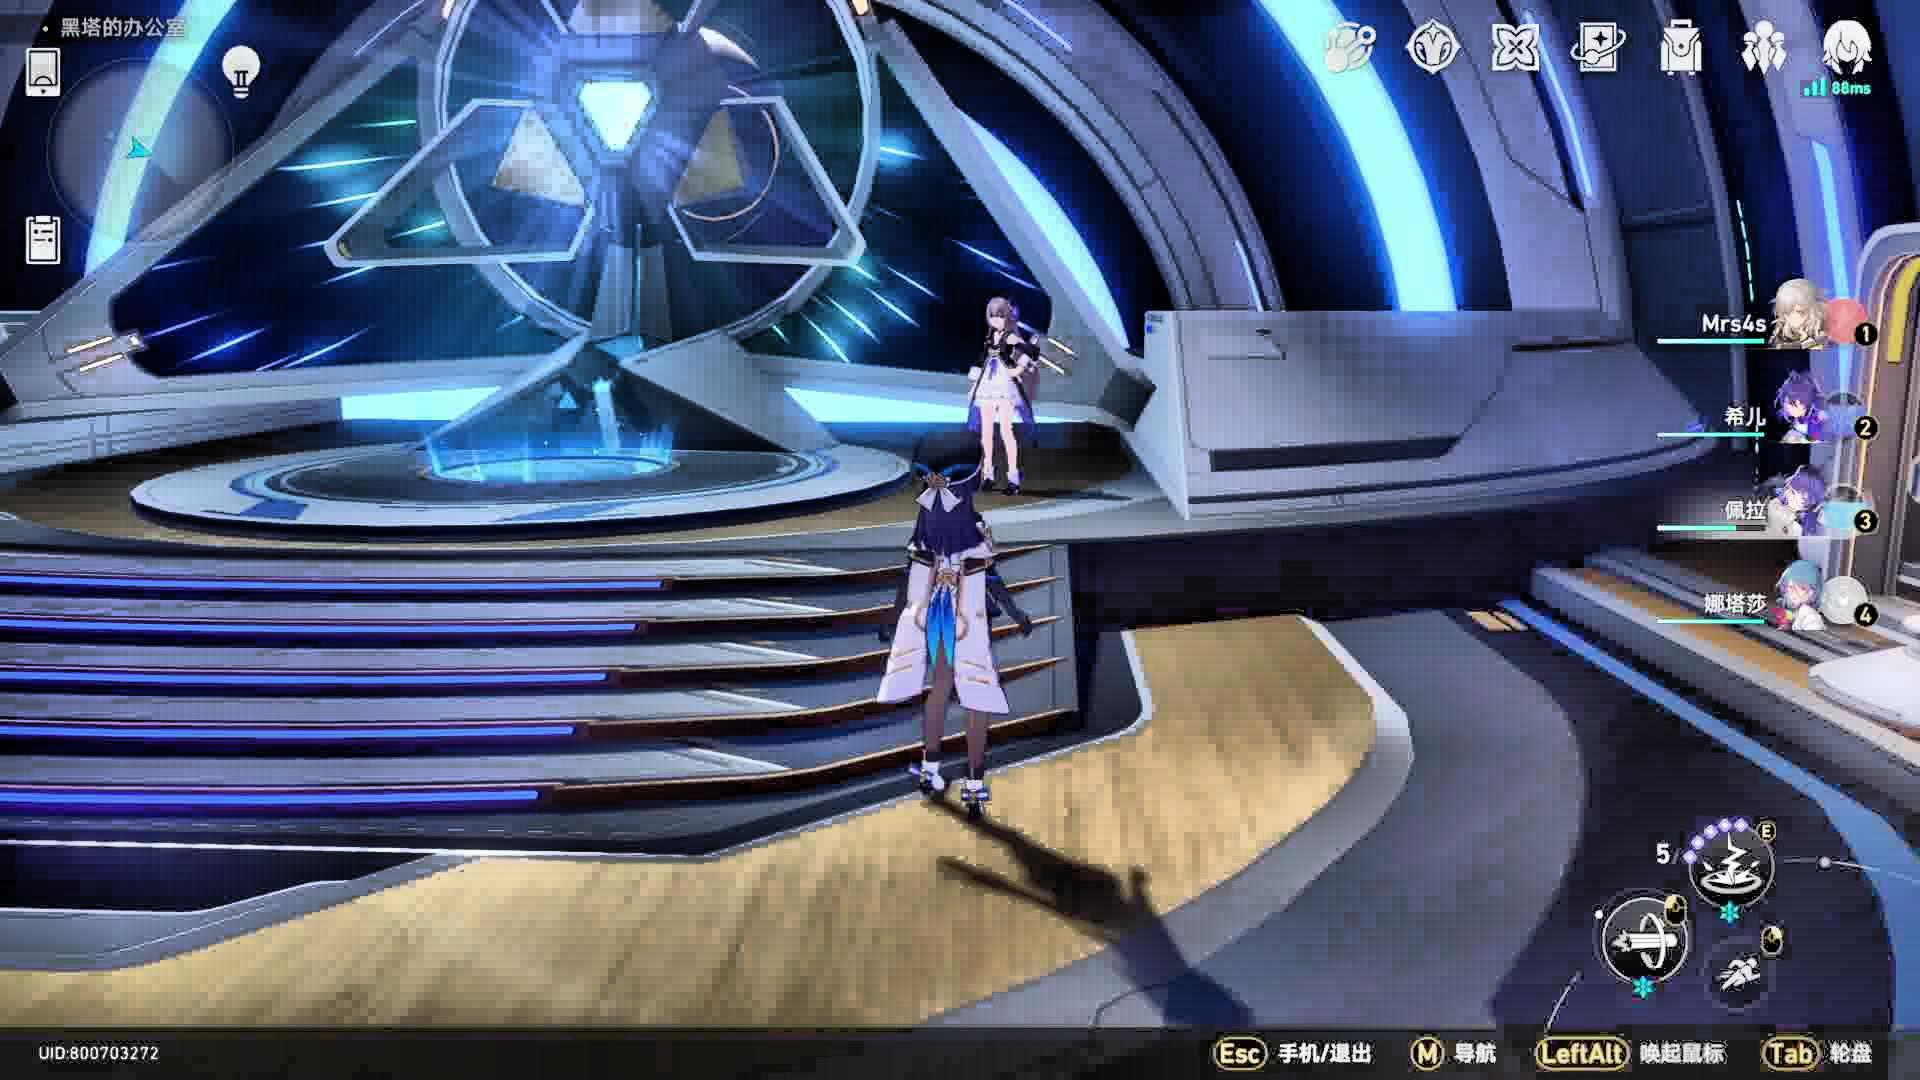Self: (876, 422, 1033, 832)
TeamMate: (963, 290, 1043, 502)
